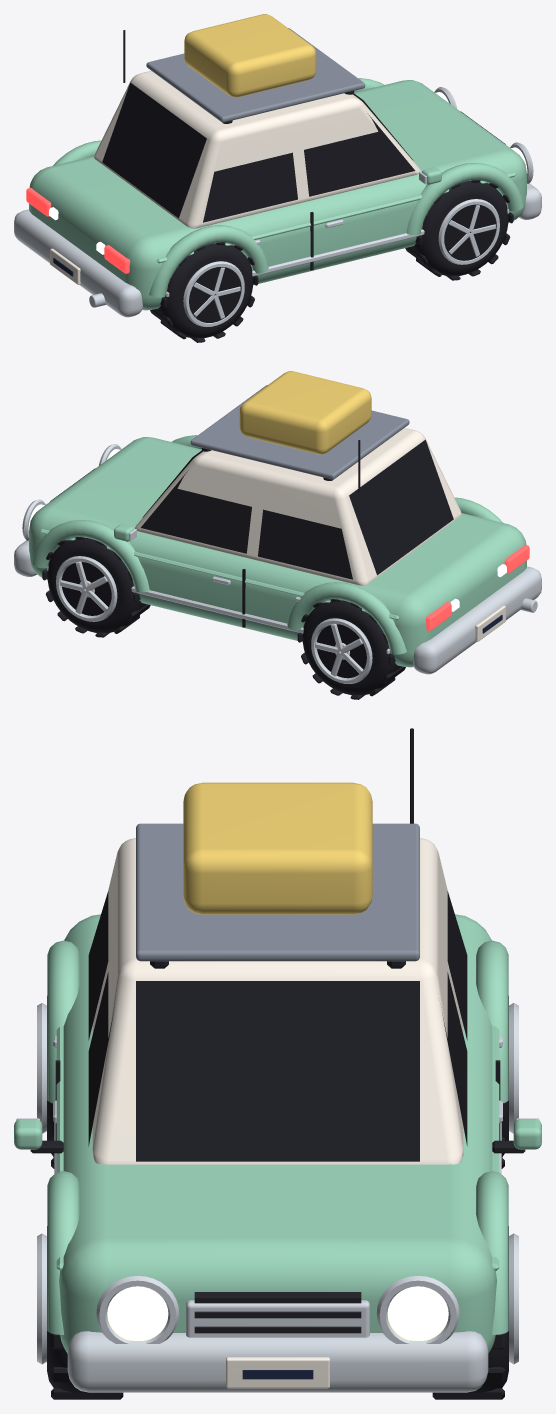
The model's file is car_b.glb.
3 views of the same model, one above another, from view 1: azimuth 30°, elevation 25°; view 2: azimuth 150°, elevation 25°; view 3: azimuth 270°, elevation 25° (orthographic). The views are drawn at different scales.
Parts seen in each view (by area): view 1: car_b; view 2: car_b; view 3: car_b.
Boxes of the visible parts, box(x1,y1,x2,y2) form: car_b: box(14, 14, 541, 342); car_b: box(14, 371, 541, 699); car_b: box(14, 728, 541, 1399).
Bounding box in the file's own units: 3.94 × 2.04 × 2.23.
1 material, 1 textured.
